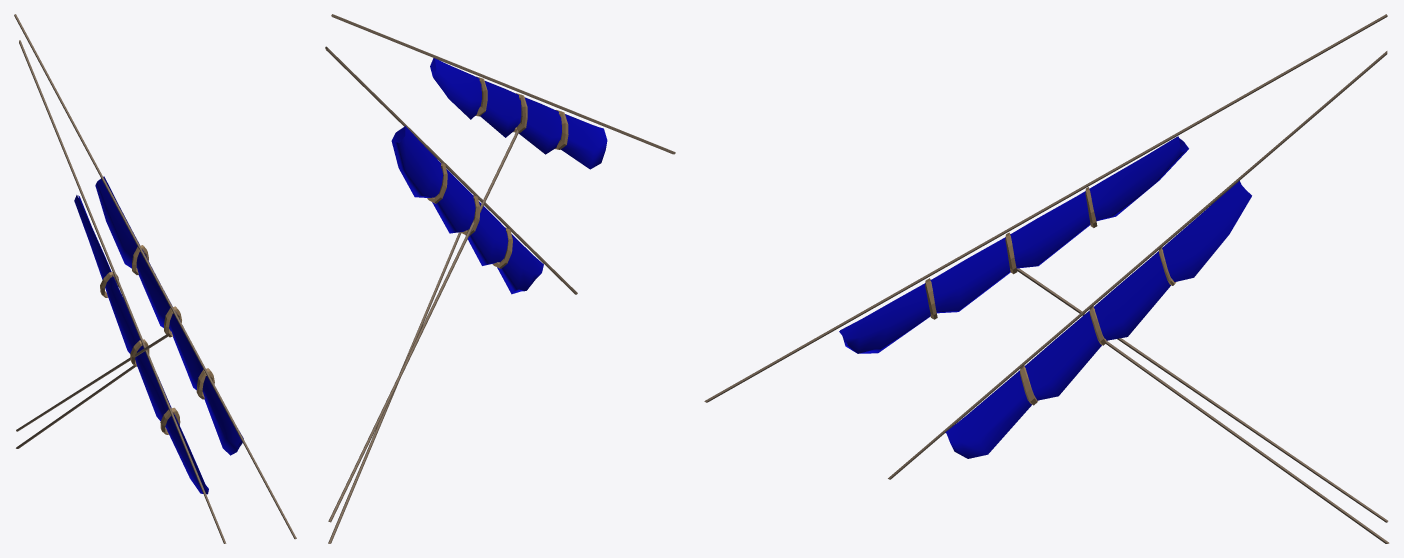
File: SM_Veh_Ship_M_01_Rigging_Front_01_Tied_01.fbx
The picture shows the model from 3 angles, left to right: view 1: azimuth 30°, elevation 25°; view 2: azimuth 150°, elevation 25°; view 3: azimuth 270°, elevation 25°; orthographic projection. The views are drawn at different scales.
Visible parts, largest first — view 1: SM_Veh_Ship_M_01_Rigging_Front_01_Tied_01; view 2: SM_Veh_Ship_M_01_Rigging_Front_01_Tied_01; view 3: SM_Veh_Ship_M_01_Rigging_Front_01_Tied_01.
Part boxes in pixels (box(x1,y1,x2,y2)): SM_Veh_Ship_M_01_Rigging_Front_01_Tied_01: box(14, 14, 296, 543); SM_Veh_Ship_M_01_Rigging_Front_01_Tied_01: box(325, 14, 675, 543); SM_Veh_Ship_M_01_Rigging_Front_01_Tied_01: box(704, 14, 1389, 543).
Bounding box in the file's own units: 90.56 × 1689 × 1987.
